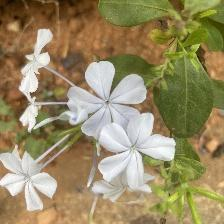chitrak: (100, 113, 180, 191), (68, 62, 148, 140), (1, 150, 59, 211), (16, 29, 55, 94), (19, 91, 45, 132)
